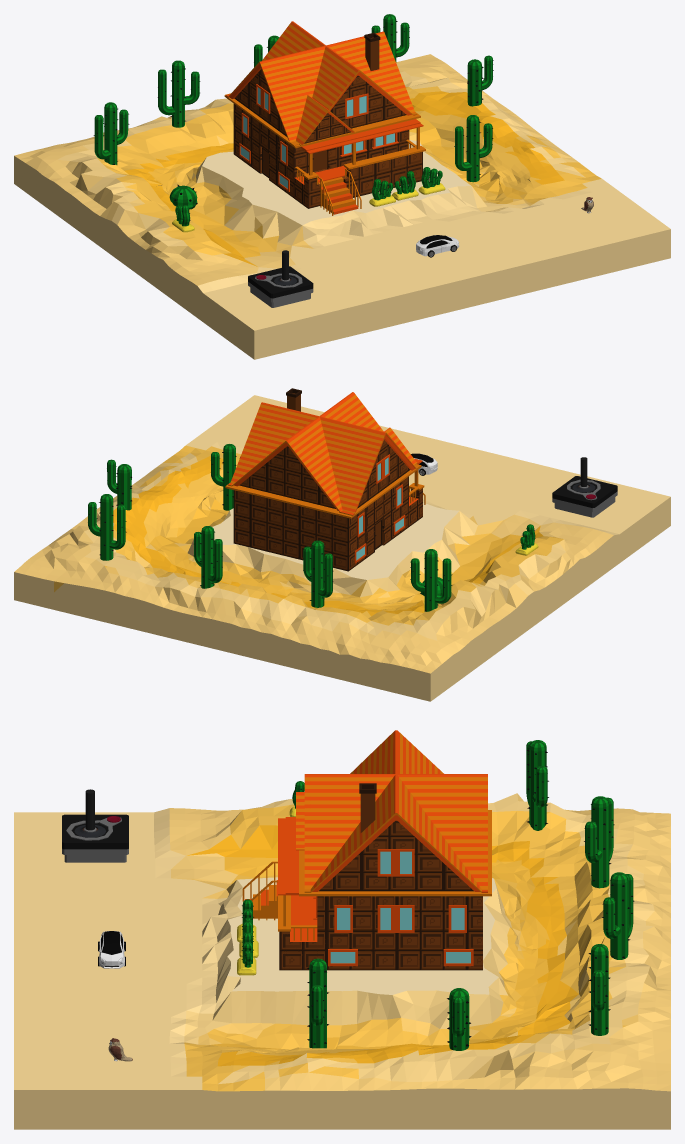
The picture shows the model from 3 angles, top to bottom: view 1: azimuth 30°, elevation 25°; view 2: azimuth 150°, elevation 25°; view 3: azimuth 270°, elevation 25°; orthographic projection. The views are drawn at different scales.
Visible parts, largest first — view 1: Cube.001, Cube, OBJRANDOM_JOYSTICK, Cylinder.037, Cylinder.044, Cylinder.045, Cylinder.038, Cylinder.042, VEHICLES_TESLA, Cylinder.039, Cylinder.041, Sphere.023 (+1 smaller); view 2: Cube.001, Cube, OBJRANDOM_JOYSTICK, Cylinder.042, Cylinder.045, Cylinder.044, Cylinder.043, Cylinder.037, Cylinder.038; view 3: Cube.001, Cube, OBJRANDOM_JOYSTICK, Cylinder.043, Cylinder.044, Cylinder.045, Cylinder.042, Cylinder.037, Cylinder.038, VEHICLES_TESLA, Cylinder.041.
Boxes of the visible parts, left/top/right/bottom form: Cube.001: left=14, top=54, right=670, bottom=359; Cube: left=224, top=21, right=425, bottom=215; OBJRANDOM_JOYSTICK: left=248, top=250, right=313, bottom=307; Cylinder.037: left=454, top=115, right=493, bottom=182; Cylinder.044: left=157, top=60, right=200, bottom=127; Cylinder.045: left=93, top=102, right=129, bottom=164; Cylinder.038: left=467, top=55, right=493, bottom=106; Cylinder.042: left=371, top=14, right=409, bottom=62; VEHICLES_TESLA: left=416, top=235, right=459, bottom=257; Cylinder.039: left=369, top=179, right=395, bottom=206; Cylinder.041: left=418, top=167, right=445, bottom=194; Sphere.023: left=169, top=184, right=197, bottom=209; Cube.001: left=14, top=395, right=670, bottom=701; Cube: left=225, top=388, right=425, bottom=571; OBJRANDOM_JOYSTICK: left=552, top=457, right=617, bottom=517; Cylinder.042: left=88, top=494, right=126, bottom=560; Cylinder.045: left=410, top=549, right=452, bottom=611; Cylinder.044: left=303, top=540, right=333, bottom=607; Cylinder.043: left=193, top=526, right=222, bottom=588; Cylinder.037: left=211, top=444, right=240, bottom=510; Cylinder.038: left=107, top=459, right=131, bottom=510; Cube.001: left=14, top=793, right=670, bottom=1129; Cube: left=242, top=730, right=491, bottom=970; OBJRANDOM_JOYSTICK: left=62, top=789, right=128, bottom=862; Cylinder.043: left=602, top=872, right=634, bottom=959; Cylinder.044: left=584, top=796, right=614, bottom=888; Cylinder.045: left=526, top=740, right=548, bottom=830; Cylinder.042: left=588, top=944, right=610, bottom=1035; Cylinder.037: left=307, top=958, right=328, bottom=1048; Cylinder.038: left=447, top=988, right=471, bottom=1050; VEHICLES_TESLA: left=98, top=931, right=125, bottom=968; Cylinder.041: left=237, top=932, right=256, bottom=975.
Size of the model in its own units: 4002 by 1577 by 4001.
Materials: 32 (4 with a texture image).
